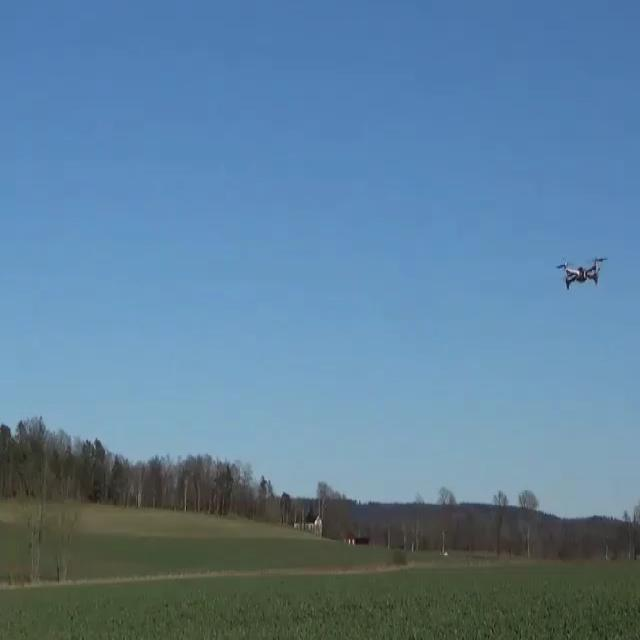Drone: (548, 248, 611, 296)
